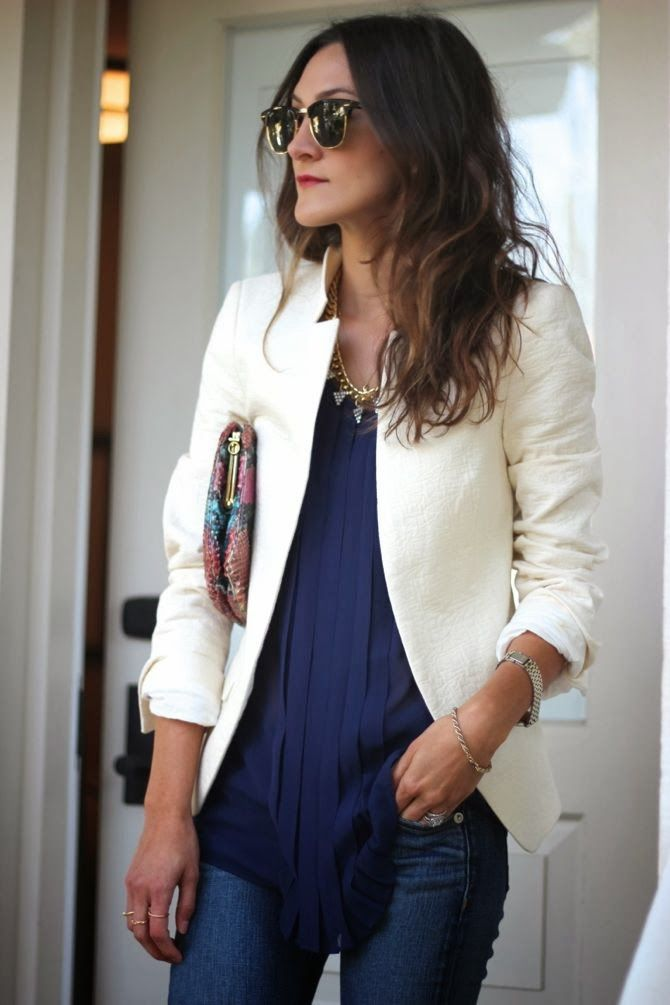F_W_suit jacket: (124, 249, 630, 718)
